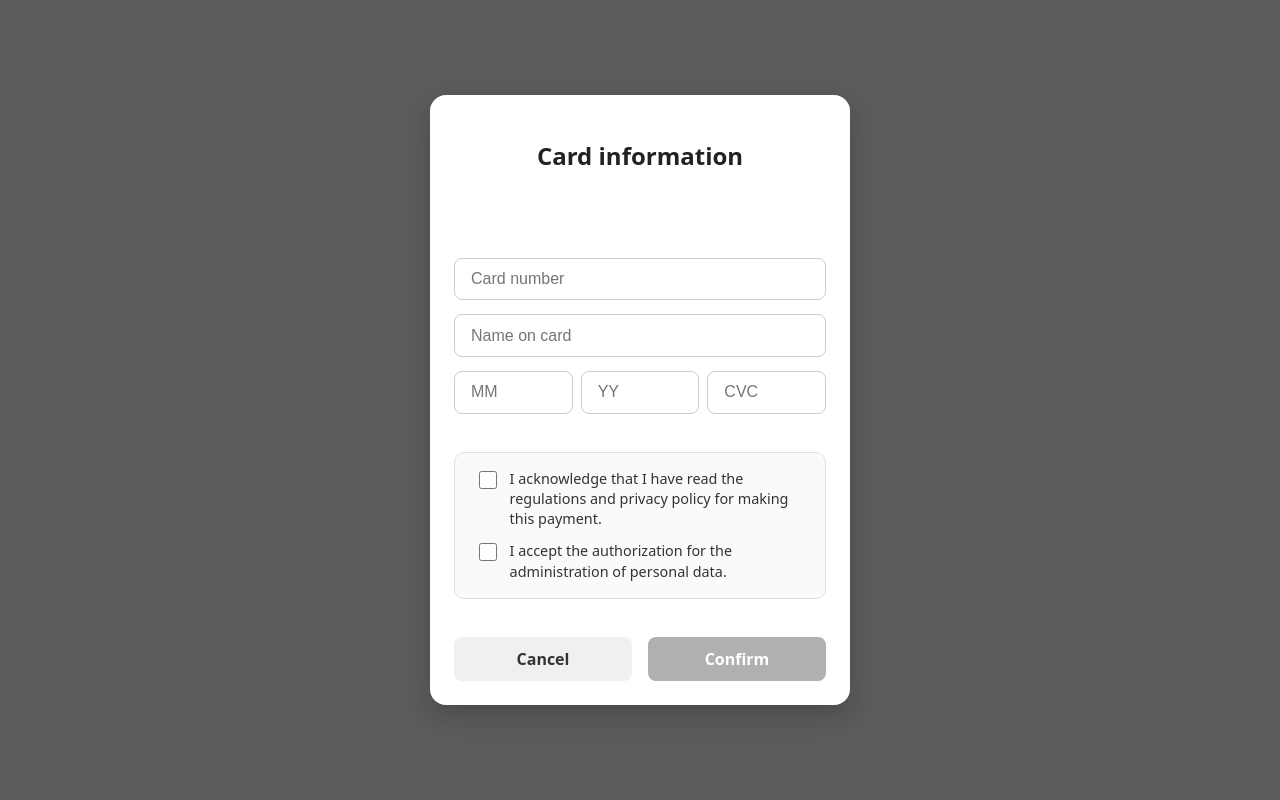
Test: CreditCardModal › Form Validation › should show validation error for invalid card number pattern
Type "123" into the field with placeholder "Card number" at (640, 279), box [454,258,826,300]
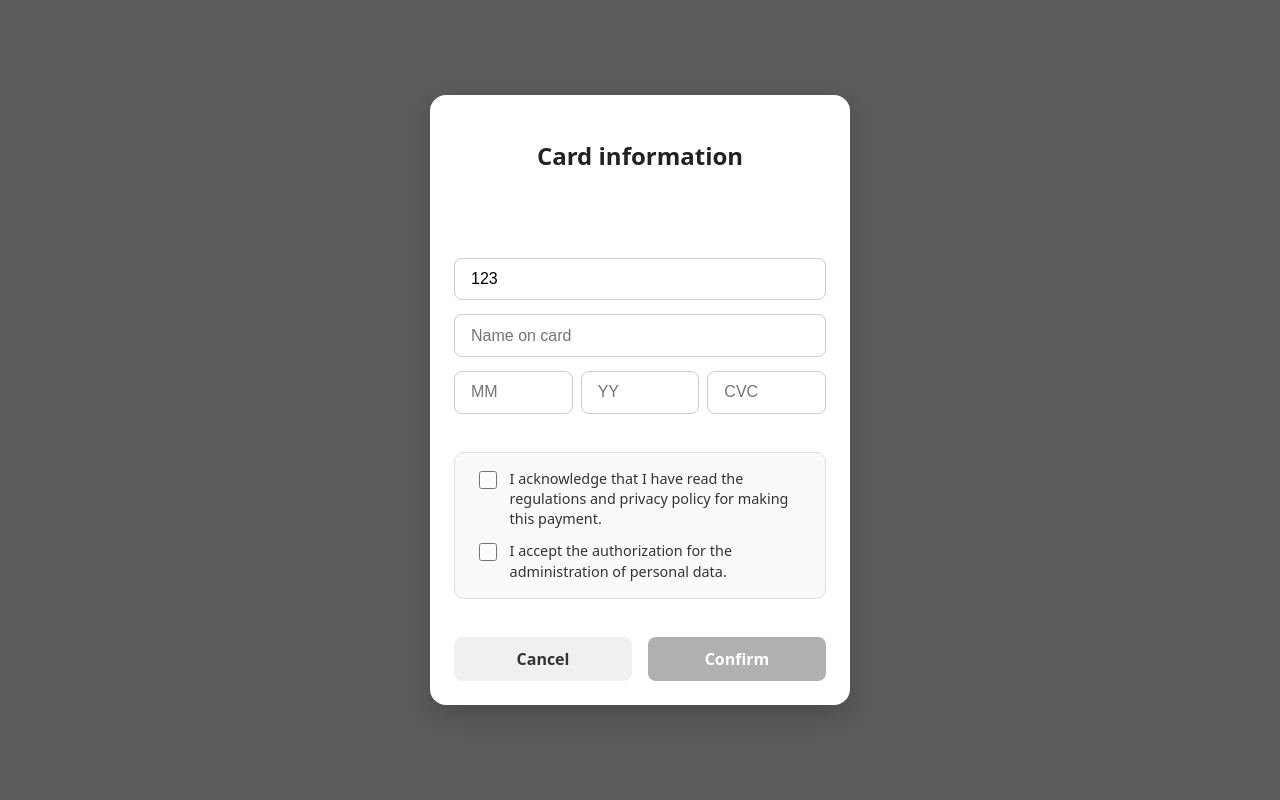
Check both checkboxes to enable submit
Click the 1st checkbox at (488, 480), box [479,471,497,489]
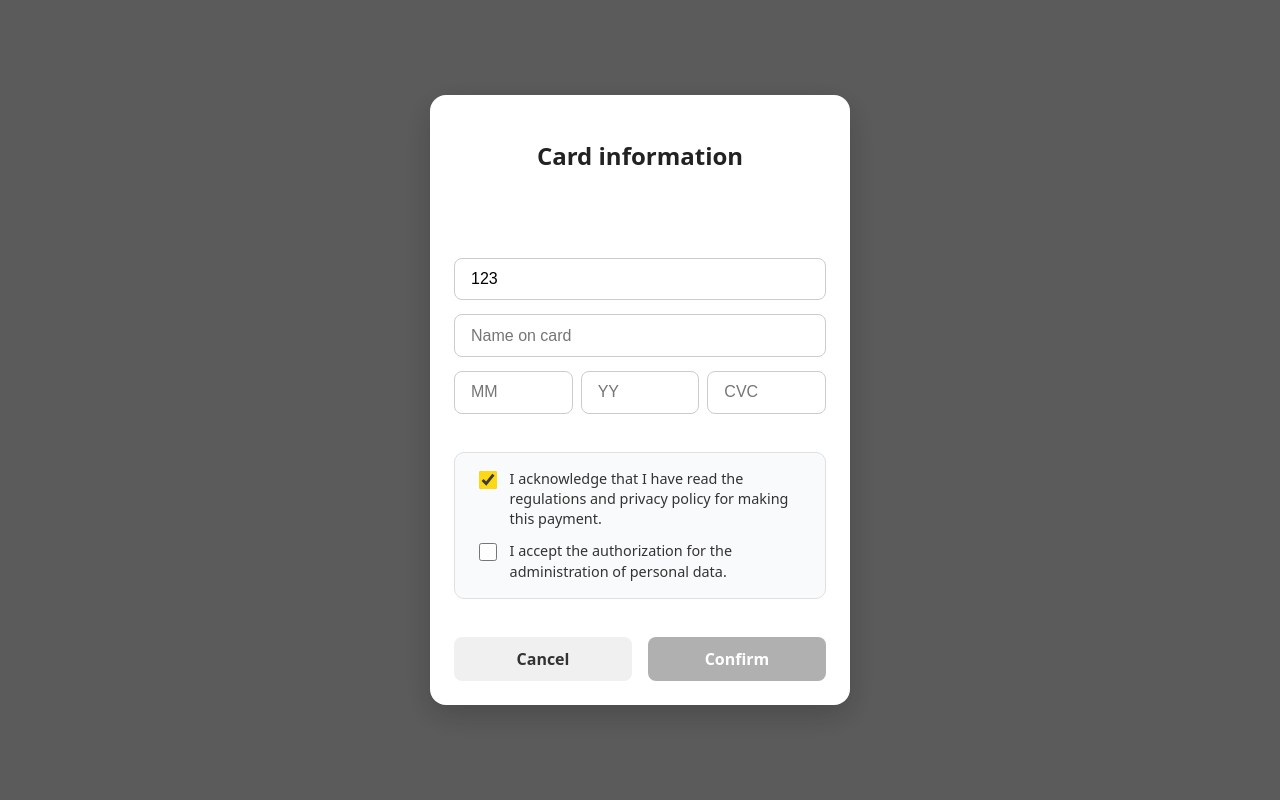
Click the 2nd checkbox at (488, 552), box [479,543,497,561]
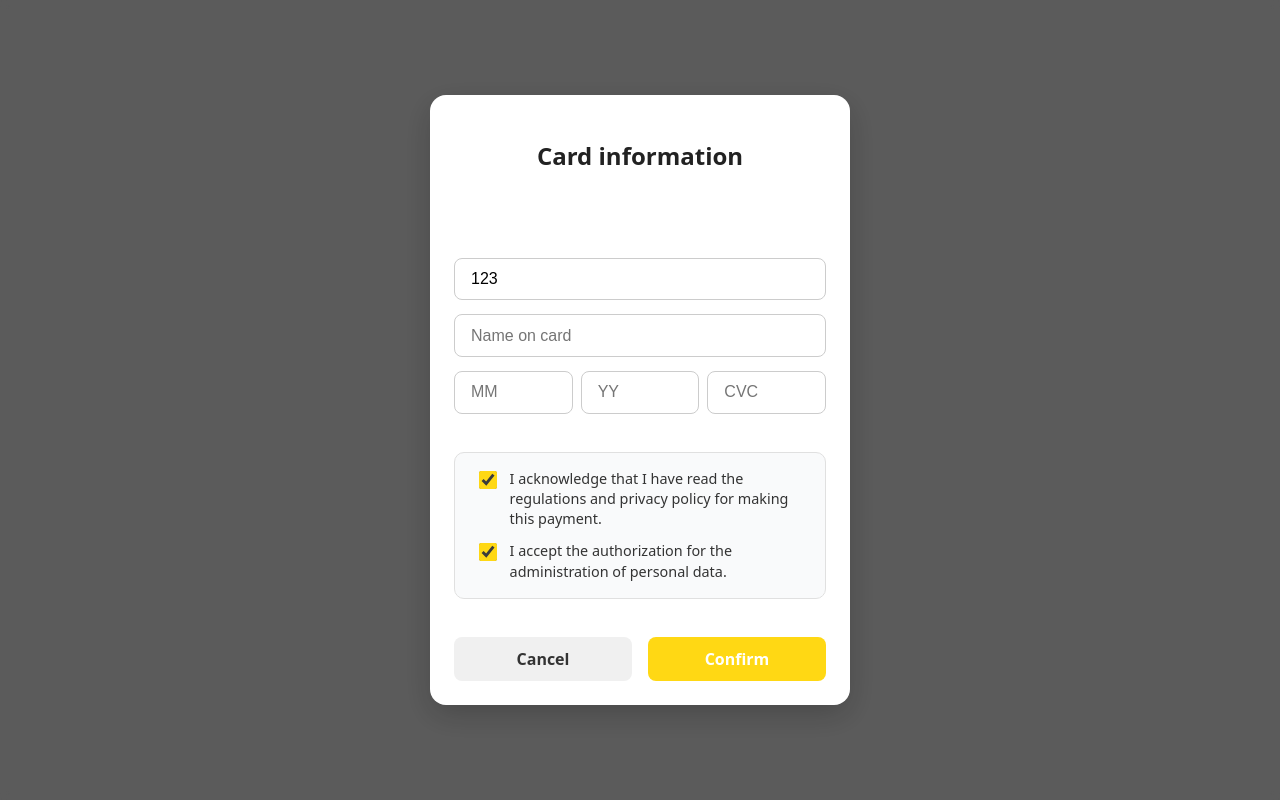
Submit the form with placeholder "Card number", box [454,258,826,681]
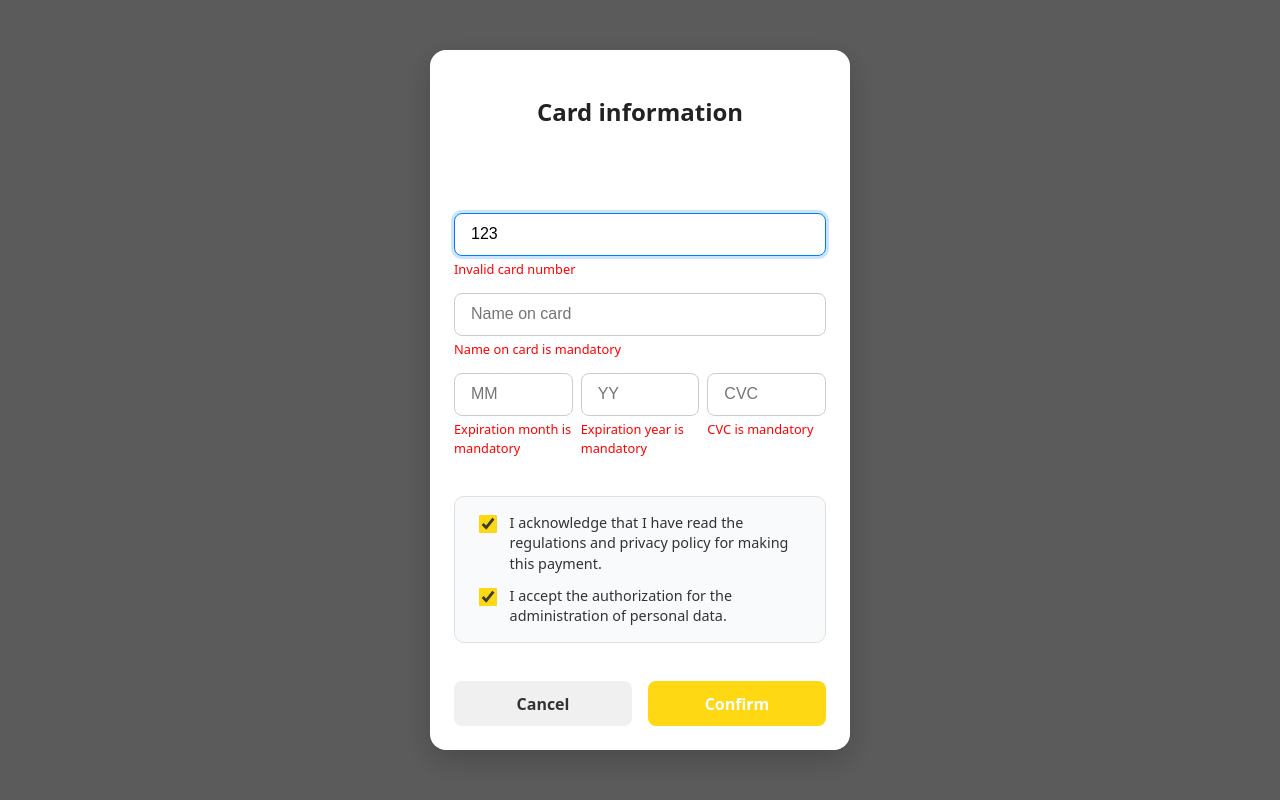
expect the text "Invalid card number" is shown: met, box [454,260,575,278]
